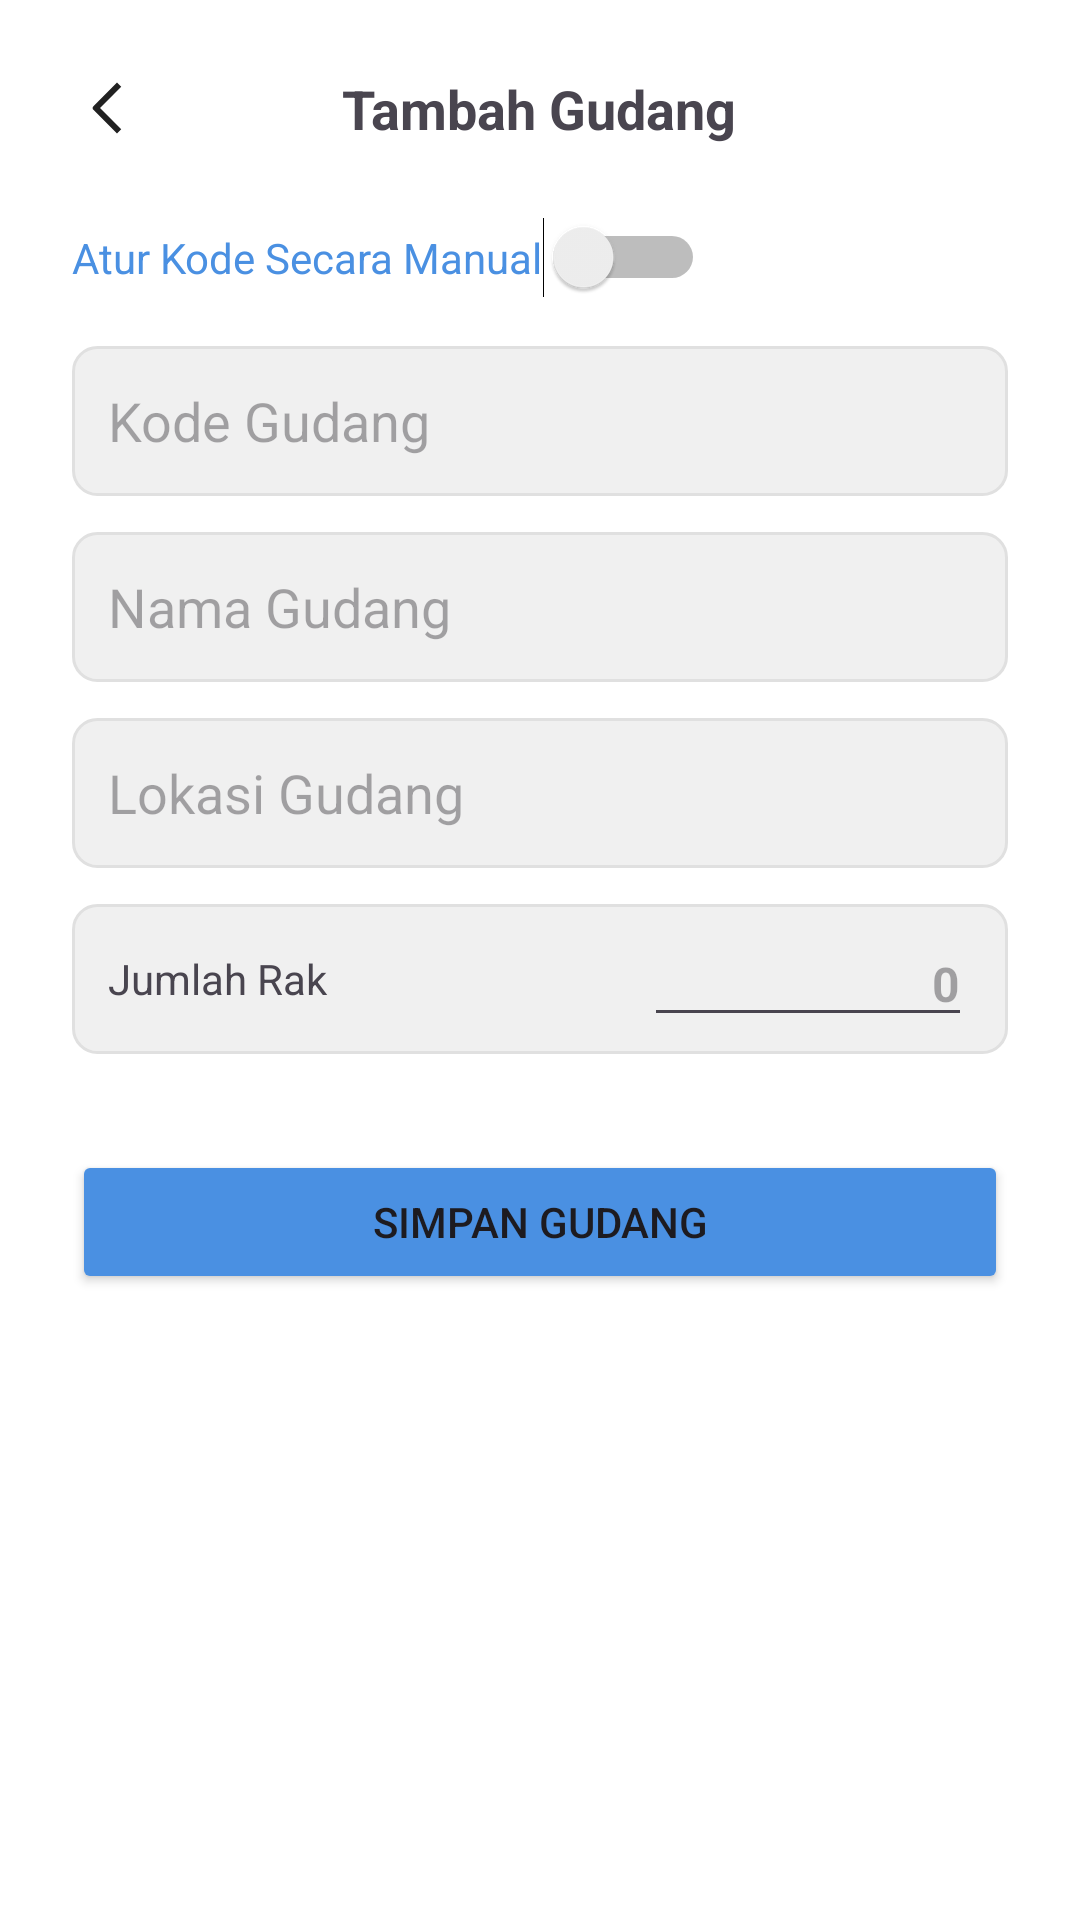

Where to tap for icons on this 1080 × 1920 app screen, as point (x, y):
back: point (106, 108)
